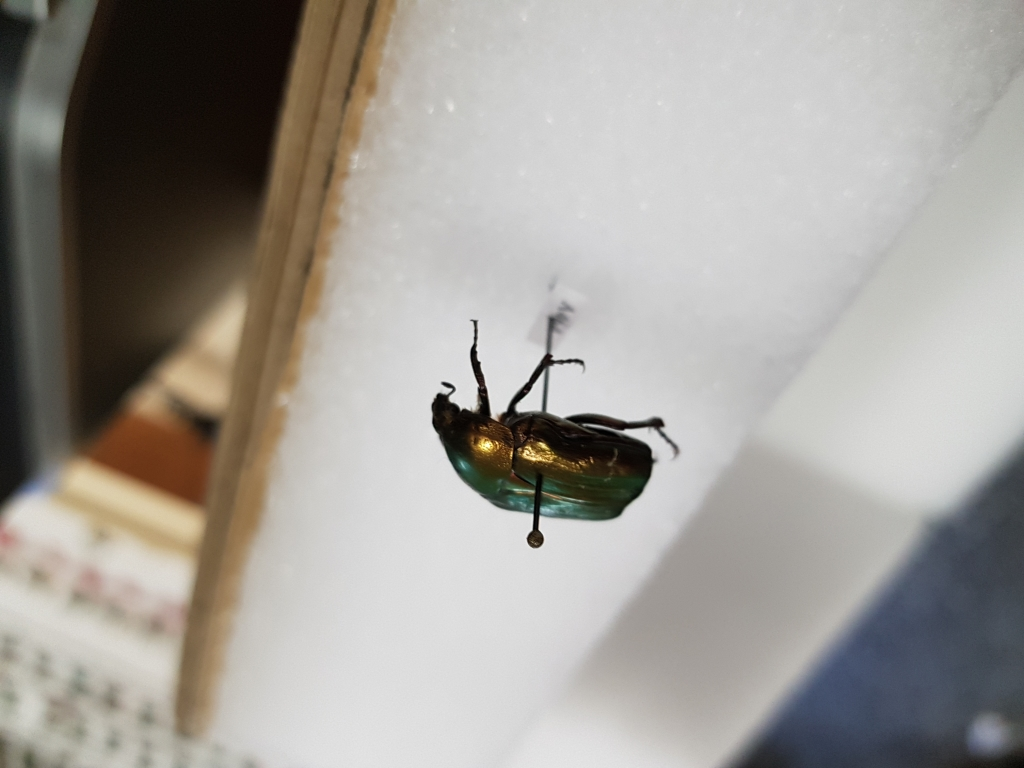Cetonia_kemali: (414, 305, 680, 524)
